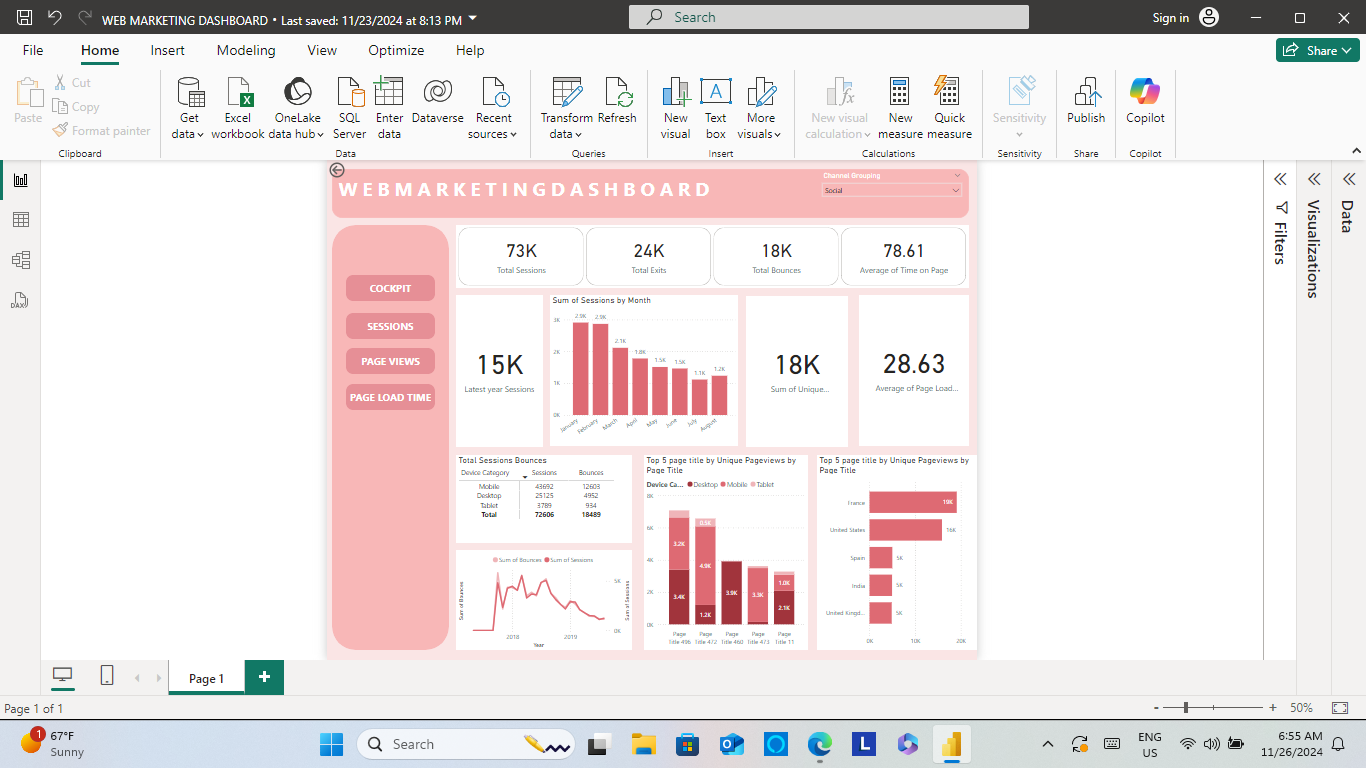

This screenshot's page, from the dashboard's own definition file:
{"tool":"powerbi","page":{"name":"Page 1","canvas":[1300,1000],"ordinal":0},"visuals":[{"type":"textbox","box":[10,18,1274,98],"z":0},{"type":"shape","box":[10,130,234,850],"z":1000},{"type":"actionButton","box":[38,230,178,52],"z":2000},{"type":"actionButton","box":[38,306,178,52],"z":3000},{"type":"actionButton","box":[38,376,178,52],"z":4000},{"type":"actionButton","box":[38,448,178,52],"z":5000},{"type":"actionButton","box":[0,0,100,40],"z":6000},{"type":"cardVisual","fields":{"Data":["Sum(Power BI hw assignment - Web Marketing Dashboard Data.Sessions)","Sum(Power BI hw assignment - Web Marketing Dashboard Data.Exits)","Sum(Power BI hw assignment - Web Marketing Dashboard Data.Bounces)","Avg(Power BI hw assignment - Web Marketing Dashboard Data.Time on Page)"]},"box":[258,130,1026,126],"z":7000},{"type":"cardVisual","fields":{"Data":["Sum(Power BI hw assignment - Web Marketing Dashboard Data.Sessions)"]},"box":[258,270,174,304],"z":8000},{"type":"cardVisual","fields":{"Data":["Sum(Power BI hw assignment - Web Marketing Dashboard Data.Unique Pageviews)"]},"box":[838,272,204,302],"z":9000},{"type":"cardVisual","fields":{"Data":["Avg(Power BI hw assignment - Web Marketing Dashboard Data.Page Load Time)"]},"box":[1064,270,220,302],"z":10000},{"type":"clusteredColumnChart","fields":{"Category":["Power BI hw assignment - Web Marketing Dashboard Data.Date.Variation.Date Hierarchy.Month"],"Y":["Sum(Power BI hw assignment - Web Marketing Dashboard Data.Sessions)"]},"box":[446,270,376,302],"z":11000},{"type":"pivotTable","title":"Total Sessions Bounces","fields":{"Rows":["Power BI hw assignment - Web Marketing Dashboard Data.Device Category"],"Values":["Sum(Power BI hw assignment - Web Marketing Dashboard Data.Sessions)","Sum(Power BI hw assignment - Web Marketing Dashboard Data.Bounces)"]},"box":[258,590,352,176],"z":12000},{"type":"lineChart","fields":{"Category":["Power BI hw assignment - Web Marketing Dashboard Data.Date.Variation.Date Hierarchy.Year","Power BI hw assignment - Web Marketing Dashboard Data.Date.Variation.Date Hierarchy.Month"],"Y":["Sum(Power BI hw assignment - Web Marketing Dashboard Data.Bounces)"],"Y2":["Sum(Power BI hw assignment - Web Marketing Dashboard Data.Sessions)"]},"box":[258,780,352,200],"z":13000},{"type":"columnChart","title":"Top 5 page title by Unique Pageviews by Page Title","fields":{"Category":["Power BI hw assignment - Web Marketing Dashboard Data.Page Title"],"Y":["Sum(Power BI hw assignment - Web Marketing Dashboard Data.Unique Pageviews)"],"Series":["Power BI hw assignment - Web Marketing Dashboard Data.Device Category"]},"box":[634,590,328,390],"z":14000},{"type":"clusteredBarChart","title":"Top 5 page title by Unique Pageviews by Page Title","fields":{"Y":["Sum(Power BI hw assignment - Web Marketing Dashboard Data.Unique Pageviews)"],"Category":["Power BI hw assignment - Web Marketing Dashboard Data.Country"]},"box":[980,590,320,390],"z":15000},{"type":"slicer","fields":{"Values":["Power BI hw assignment - Web Marketing Dashboard Data.Channel Grouping"]},"box":[980,18,300,70],"z":16000}]}

Visuals, with their boxes on the page's 1300x1000 design canvas (x1, y1, x2, y2). These are canvas units, not pixel positions in the 1366x768 screenshot, which may show the page scaled, cropped or inside an application window:
textbox: (x1=10, y1=18, x2=1284, y2=116)
shape: (x1=10, y1=130, x2=244, y2=980)
actionButton: (x1=38, y1=230, x2=216, y2=282)
actionButton: (x1=38, y1=306, x2=216, y2=358)
actionButton: (x1=38, y1=376, x2=216, y2=428)
actionButton: (x1=38, y1=448, x2=216, y2=500)
actionButton: (x1=0, y1=0, x2=100, y2=40)
cardVisual - Sum(Power BI hw assignment - Web Marketing Dashboard Data.Sessions) x Sum(Power BI hw assignment - Web Marketing Dashboard Data.Exits): (x1=258, y1=130, x2=1284, y2=256)
cardVisual - Sum(Power BI hw assignment - Web Marketing Dashboard Data.Sessions): (x1=258, y1=270, x2=432, y2=574)
cardVisual - Sum(Power BI hw assignment - Web Marketing Dashboard Data.Unique Pageviews): (x1=838, y1=272, x2=1042, y2=574)
cardVisual - Avg(Power BI hw assignment - Web Marketing Dashboard Data.Page Load Time): (x1=1064, y1=270, x2=1284, y2=572)
clusteredColumnChart - Power BI hw assignment - Web Marketing Dashboard Data.Date.Variation.Date Hierarchy.Month x Sum(Power BI hw assignment - Web Marketing Dashboard Data.Sessions): (x1=446, y1=270, x2=822, y2=572)
"Total Sessions Bounces" pivotTable: (x1=258, y1=590, x2=610, y2=766)
lineChart - Power BI hw assignment - Web Marketing Dashboard Data.Date.Variation.Date Hierarchy.Year x Power BI hw assignment - Web Marketing Dashboard Data.Date.Variation.Date Hierarchy.Month: (x1=258, y1=780, x2=610, y2=980)
"Top 5 page title by Unique Pageviews by Page Title" columnChart: (x1=634, y1=590, x2=962, y2=980)
"Top 5 page title by Unique Pageviews by Page Title" clusteredBarChart: (x1=980, y1=590, x2=1300, y2=980)
slicer - Power BI hw assignment - Web Marketing Dashboard Data.Channel Grouping: (x1=980, y1=18, x2=1280, y2=88)
